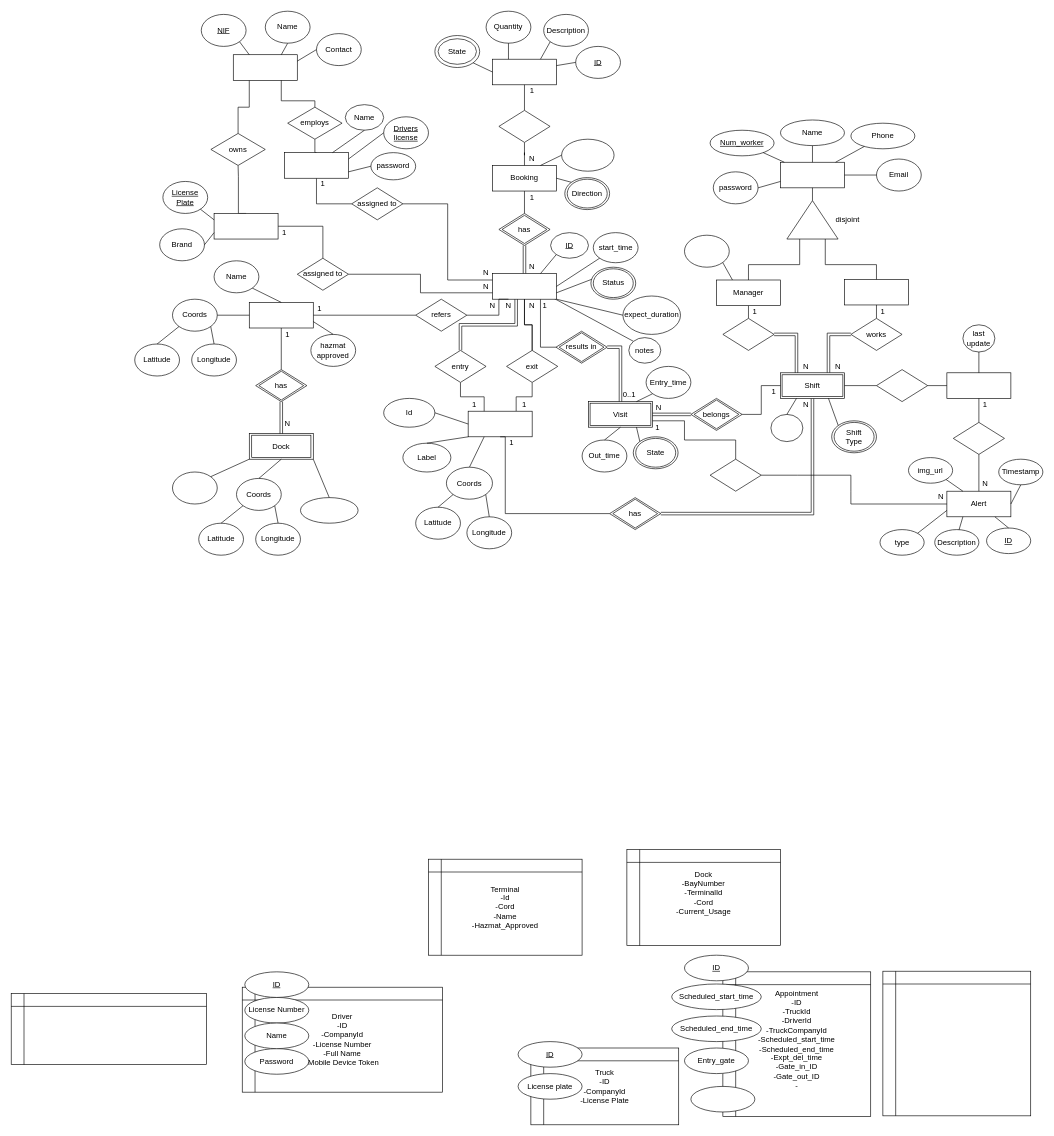
Some shapes in this 1054 by 1136 pixel diagram are drawn without their labels. Each missing label, with the centre of its shape:
"Access Level" belongs at point 706,251.
"agrupe" belongs at point 978,438.
"Appointment" belongs at point 524,286.
"BayNumber" belongs at point 194,487.
"Cargo" belongs at point 524,72.
"Company" belongs at point 265,67.
"contains" belongs at point 524,126.
"CurrentUsage" belongs at point 329,510.
"Date" belongs at point 786,428.
"Driver" belongs at point 316,165.
"Exit_gate" belongs at point 722,1099.
"Gate" belongs at point 500,424.
"have" belongs at point 902,385.
"History" belongs at point 978,385.
"Is a" belongs at point 812,219.
"manage" belongs at point 748,334.
"Operator" belongs at point 876,292.
"produce" belongs at point 735,475.
"Reference" belongs at point 587,155.
"Terminal" belongs at point 281,315.
"Truck" belongs at point 245,226.
"TruckCompany -NIF -NAME -PHONE" belongs at point 108,1029.
"Visit -ID -AppoitmentId -EntryTime -OutTime -VisitState" belongs at point 956,1043.
"Worker" belongs at point 812,175.
